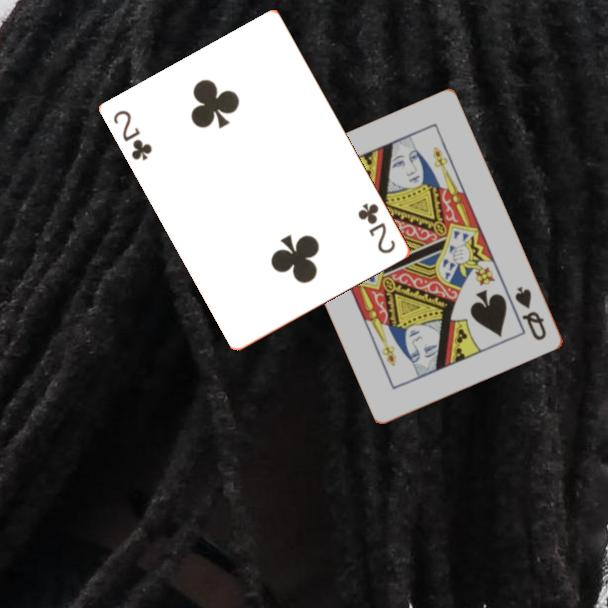c02: (110, 107, 156, 164), (354, 199, 399, 257)
s12: (512, 283, 550, 344)
